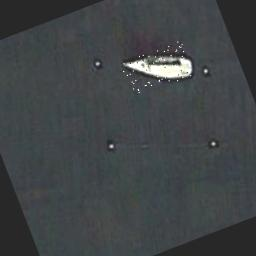boat: (120, 39, 196, 98)
